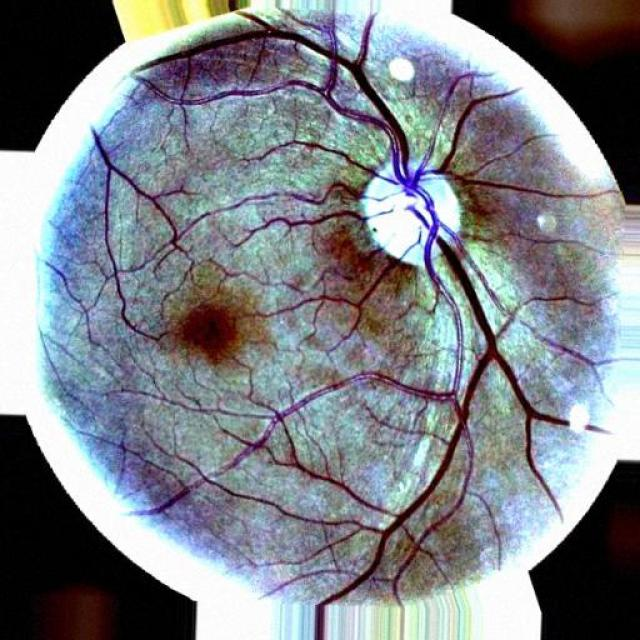Macula: (175, 304, 245, 364)
Nerves: (139, 14, 619, 606), (261, 230, 421, 350), (92, 129, 188, 255), (235, 209, 392, 245), (290, 181, 389, 205)
Optic Disk: (360, 160, 460, 266)
